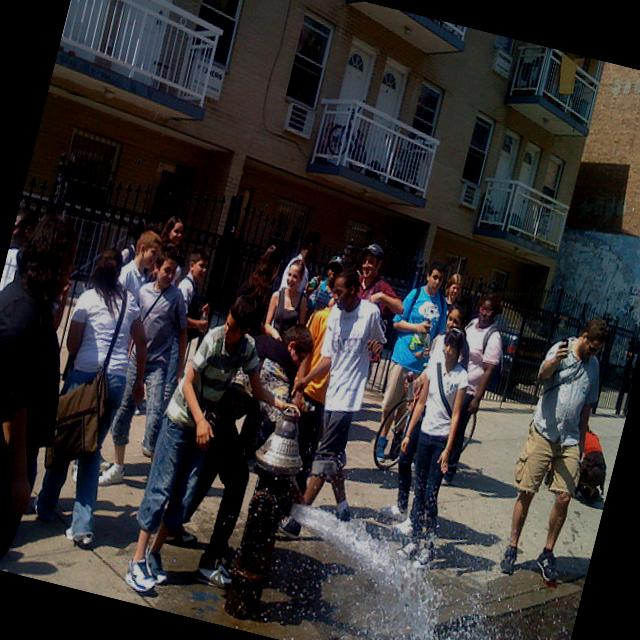Vehicle: (496, 330, 552, 386)
